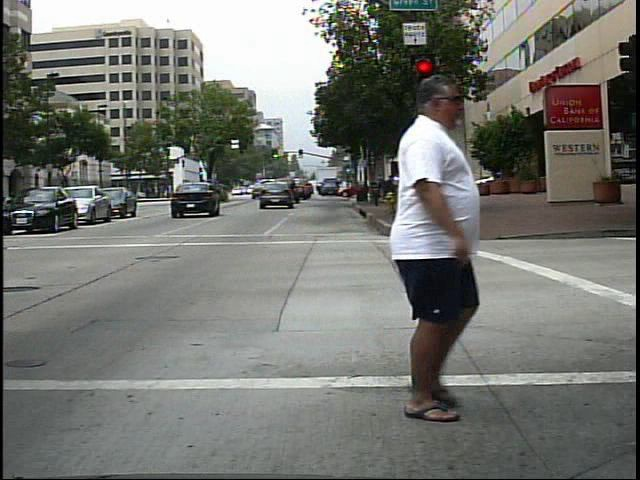person: (344, 74, 502, 423)
